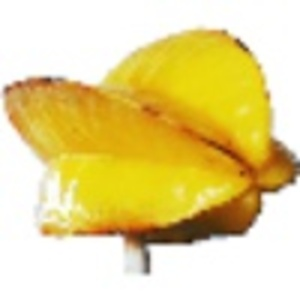carambola: (1, 25, 300, 273)
